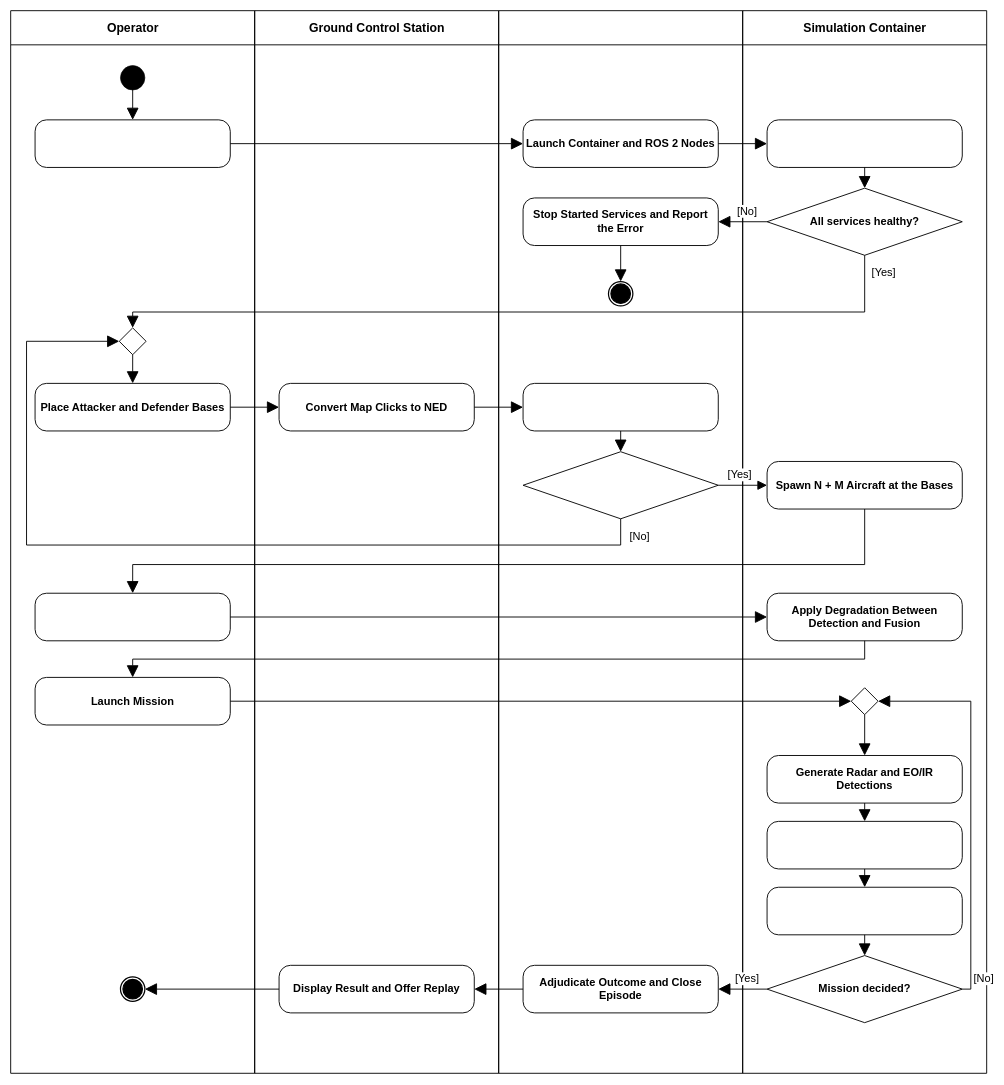
Some shapes in this 1004 by 1085 pixel diagram are drawn without their labels. Here are the shapes that lost their labels. From the top down, the box of each, then its label:
(34, 119, 230, 168): Request Simulation Start
(766, 119, 962, 168): Boot Gazebo, PX4 SITL and the DDS Agent
(522, 383, 718, 431): Publish Bases and Await Acknowledgement
(522, 451, 718, 519): Bases acknowledged?
(498, 10, 743, 1073): Backend Services
(34, 592, 230, 641): Configure Attack and Weather
(766, 821, 962, 869): Fuse into Confidence Scored Tracks
(766, 887, 962, 935): Rank Threats and Command Setpoints
